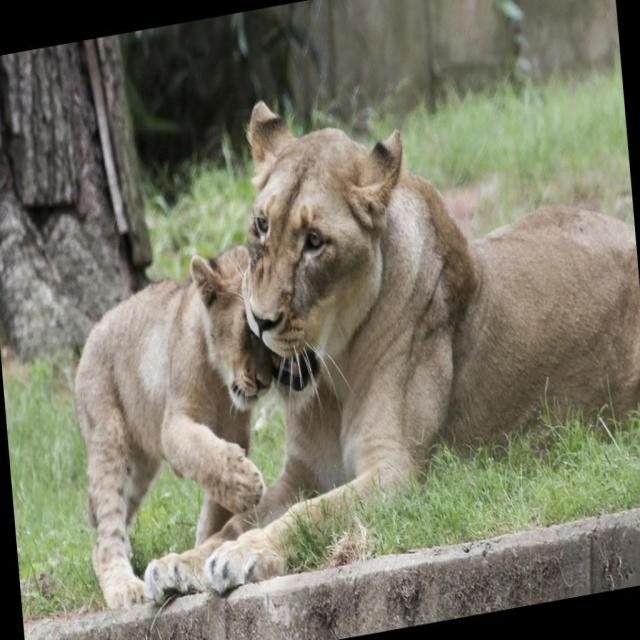Lion: (106, 35, 640, 608), (64, 241, 290, 614)
